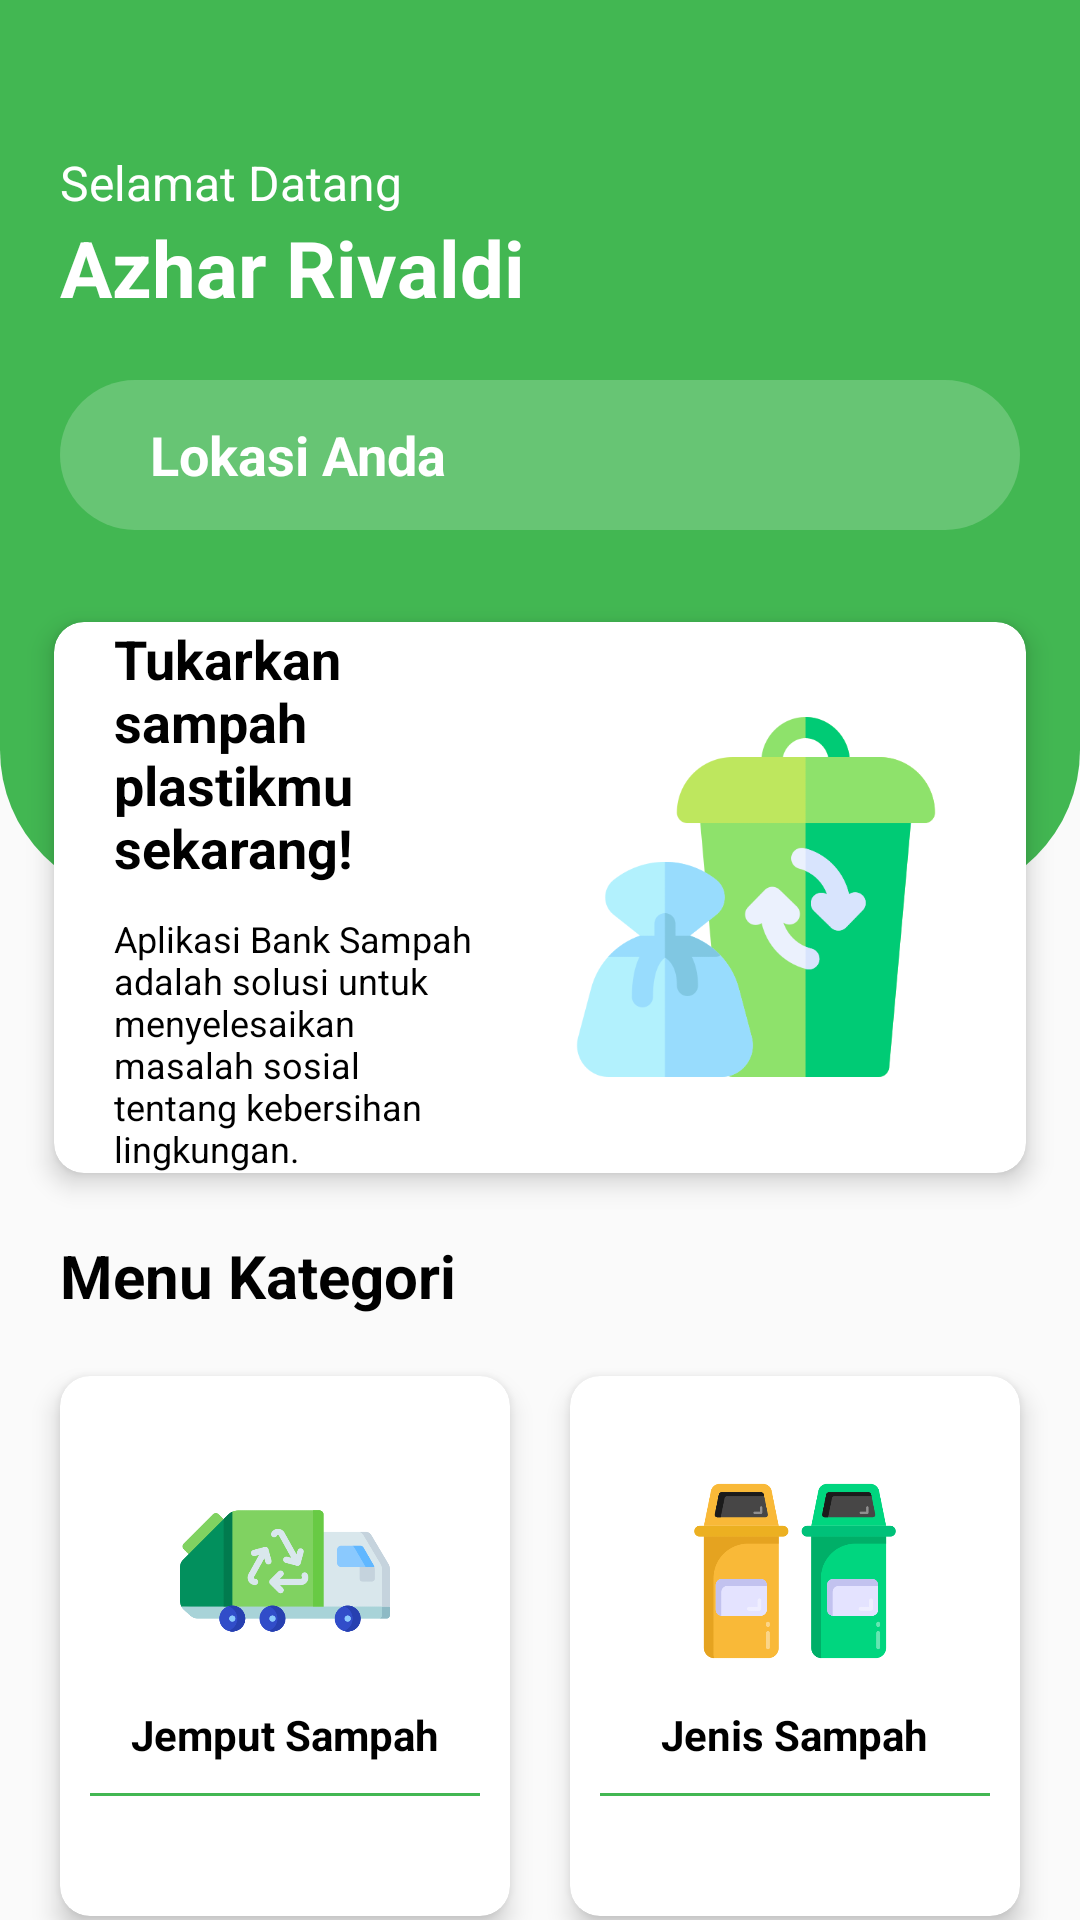

Point at icon controls on the screen. Image size 1080px x 1920px, points as (x=x, y=y).
truk: (x=285, y=1571)
